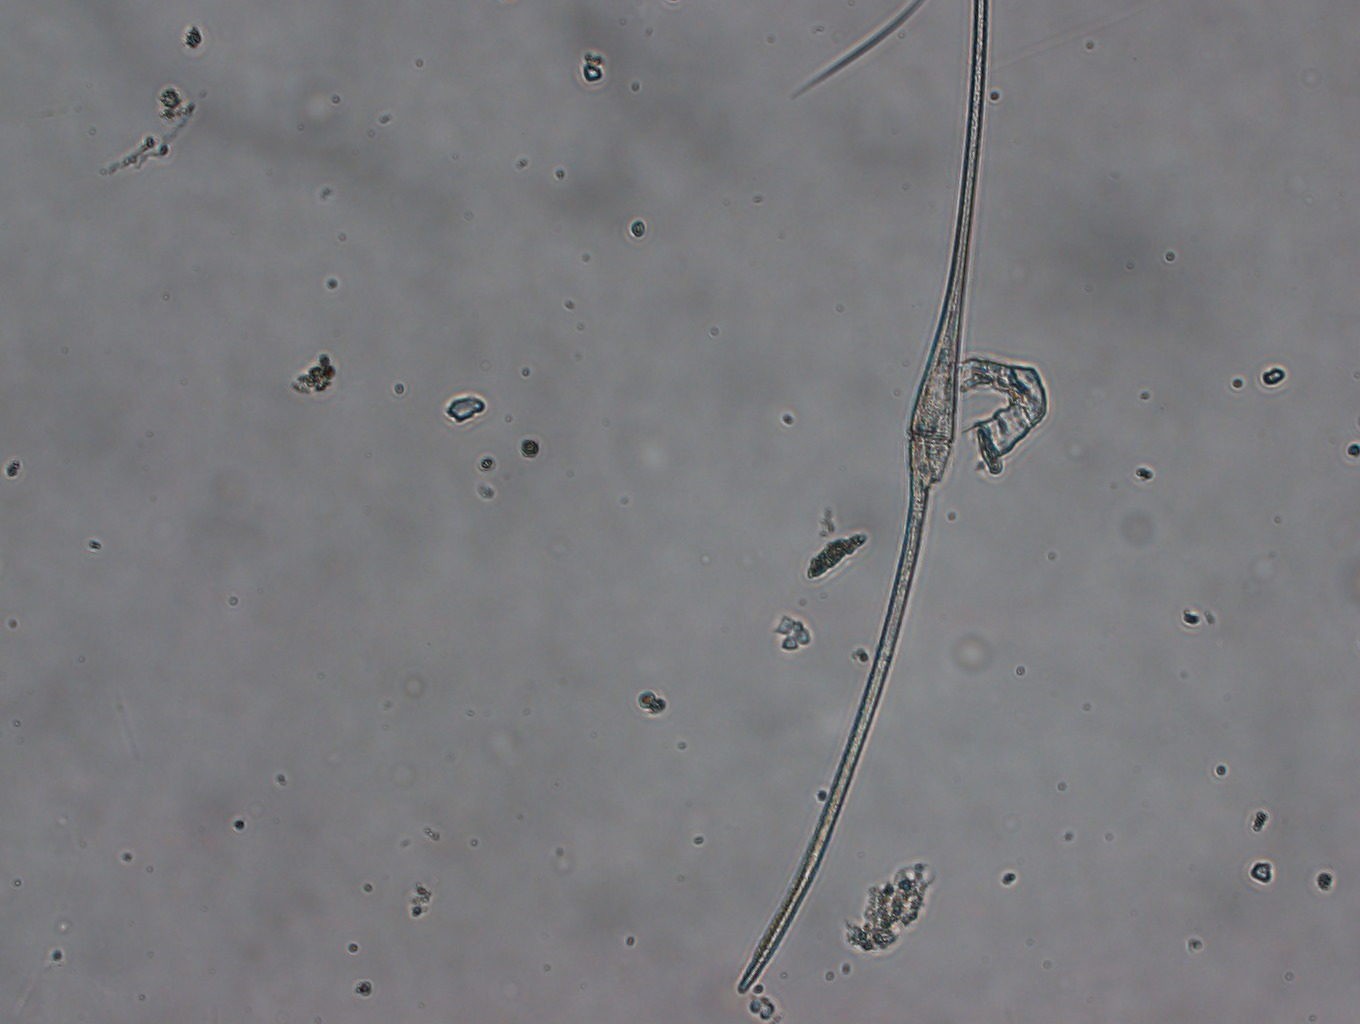ceratium fusus: (729, 1, 997, 989)
